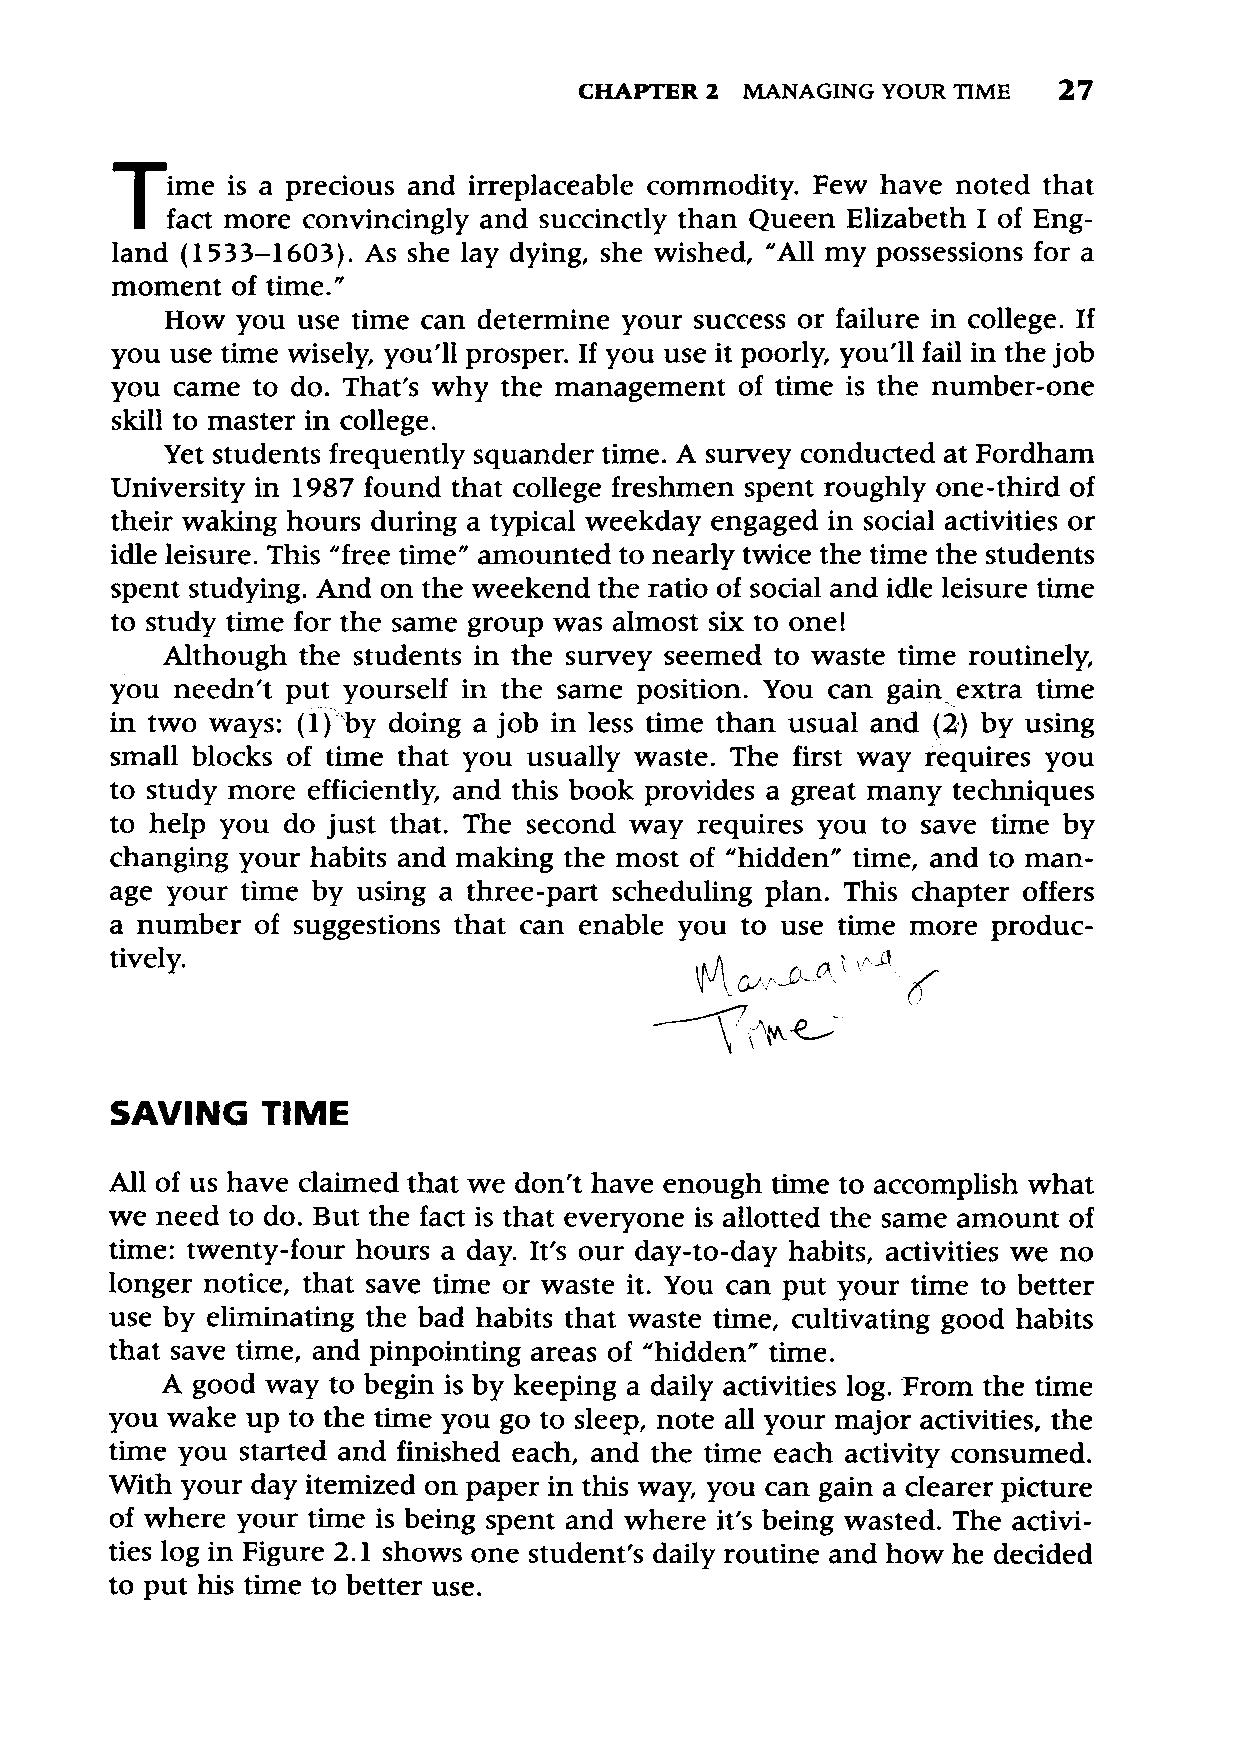chapter: (107, 1094, 350, 1126)
content: (101, 154, 1096, 978), (107, 1161, 1096, 1602)
content_chapter: (572, 79, 1015, 102)
content_pagenumber: (1053, 74, 1094, 101)
